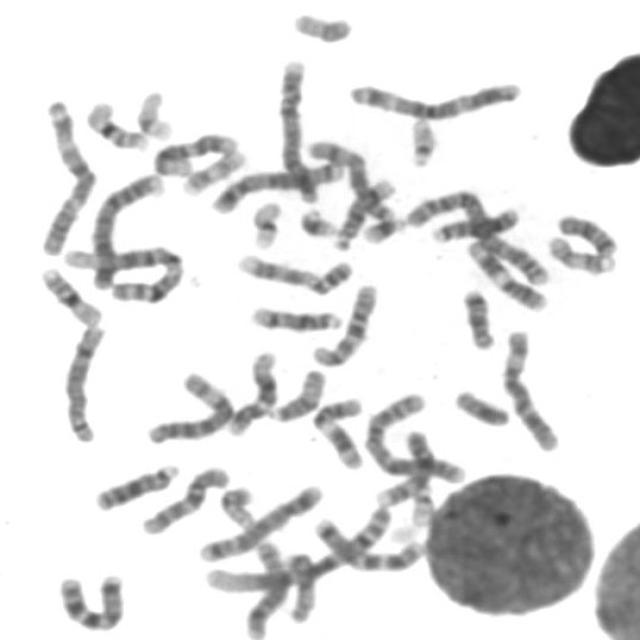A1: (198, 499, 398, 596), (57, 237, 188, 304)
A2: (400, 182, 553, 287), (358, 387, 469, 486)
A3: (32, 93, 100, 256), (342, 73, 526, 122)
B4: (85, 166, 166, 292), (271, 53, 321, 204)
B5: (193, 478, 327, 564), (206, 155, 347, 215)
C10: (136, 459, 233, 537), (306, 276, 382, 368)
C11: (462, 232, 552, 313), (306, 391, 368, 471)
C12: (221, 344, 281, 437), (147, 126, 240, 178)
C6: (495, 323, 564, 453), (140, 366, 238, 446)
C7: (308, 511, 428, 574), (51, 567, 129, 632)
C8: (57, 318, 110, 446), (239, 537, 292, 639)
C9: (230, 246, 356, 297), (370, 425, 437, 506)
D13: (88, 457, 182, 513), (427, 201, 523, 245)
D14: (327, 170, 399, 252), (244, 299, 346, 333)
D15: (262, 364, 328, 424), (281, 545, 320, 624)
E16: (34, 260, 106, 328), (79, 94, 151, 152)
E17: (176, 144, 250, 197), (541, 228, 620, 276)
E18: (551, 208, 621, 258), (457, 283, 498, 351)
F19: (131, 84, 175, 142), (244, 194, 285, 250)
F20: (286, 5, 356, 46), (214, 481, 258, 529)
G21: (292, 201, 342, 239), (357, 210, 408, 245)
G22: (406, 474, 446, 534), (402, 110, 441, 169)
X: (304, 133, 394, 224)
Y: (448, 383, 514, 429)
